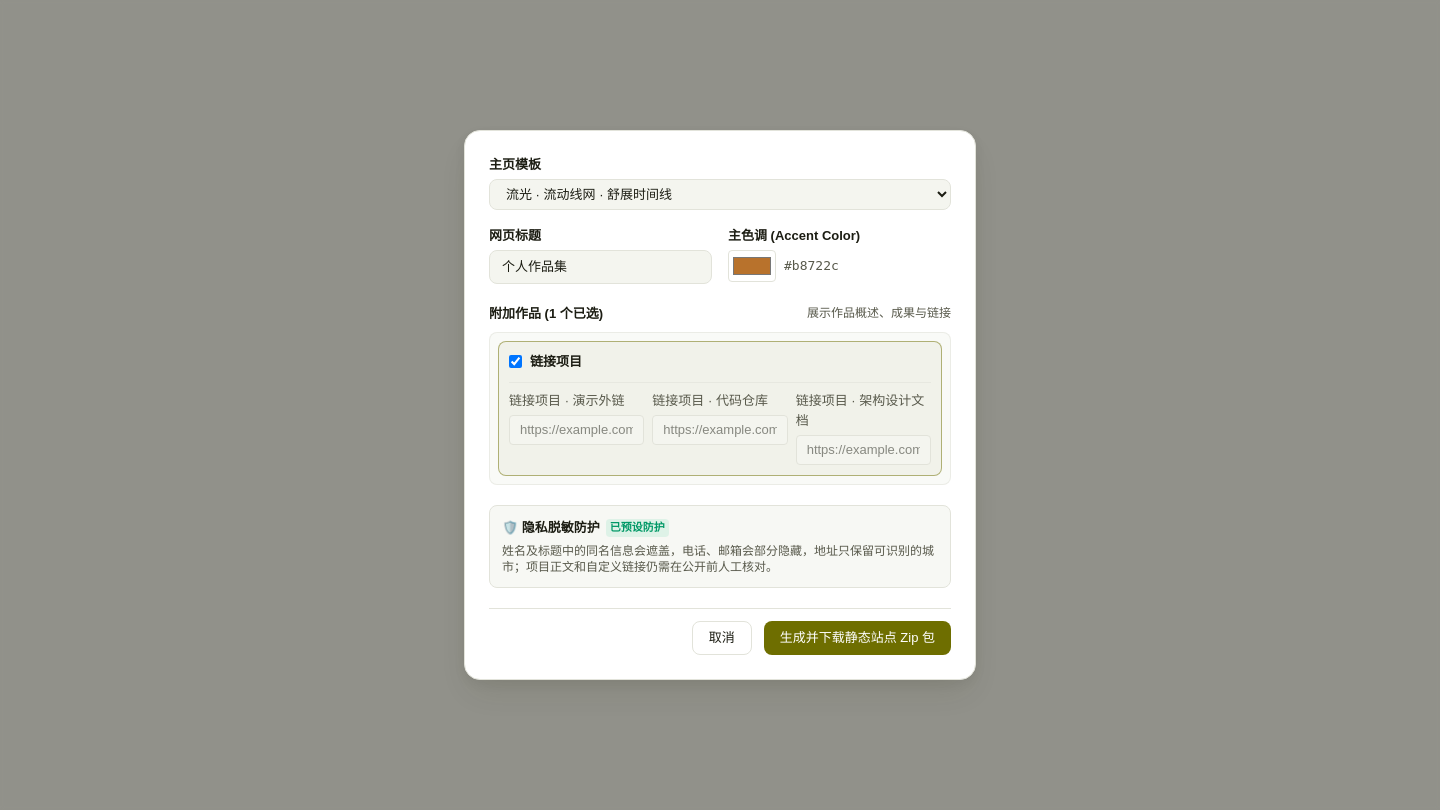
Test: PortfolioExportDialog › 项目链接具有关联标签，非法协议在保存和导出前被拒绝
Expected: the text "链接项目" is shown, [530,352,582,372]
In the field labelled "链接项目 · 演示外链": {"x": 577, "y": 430} [509,415,644,445], type "data:text/html,test"
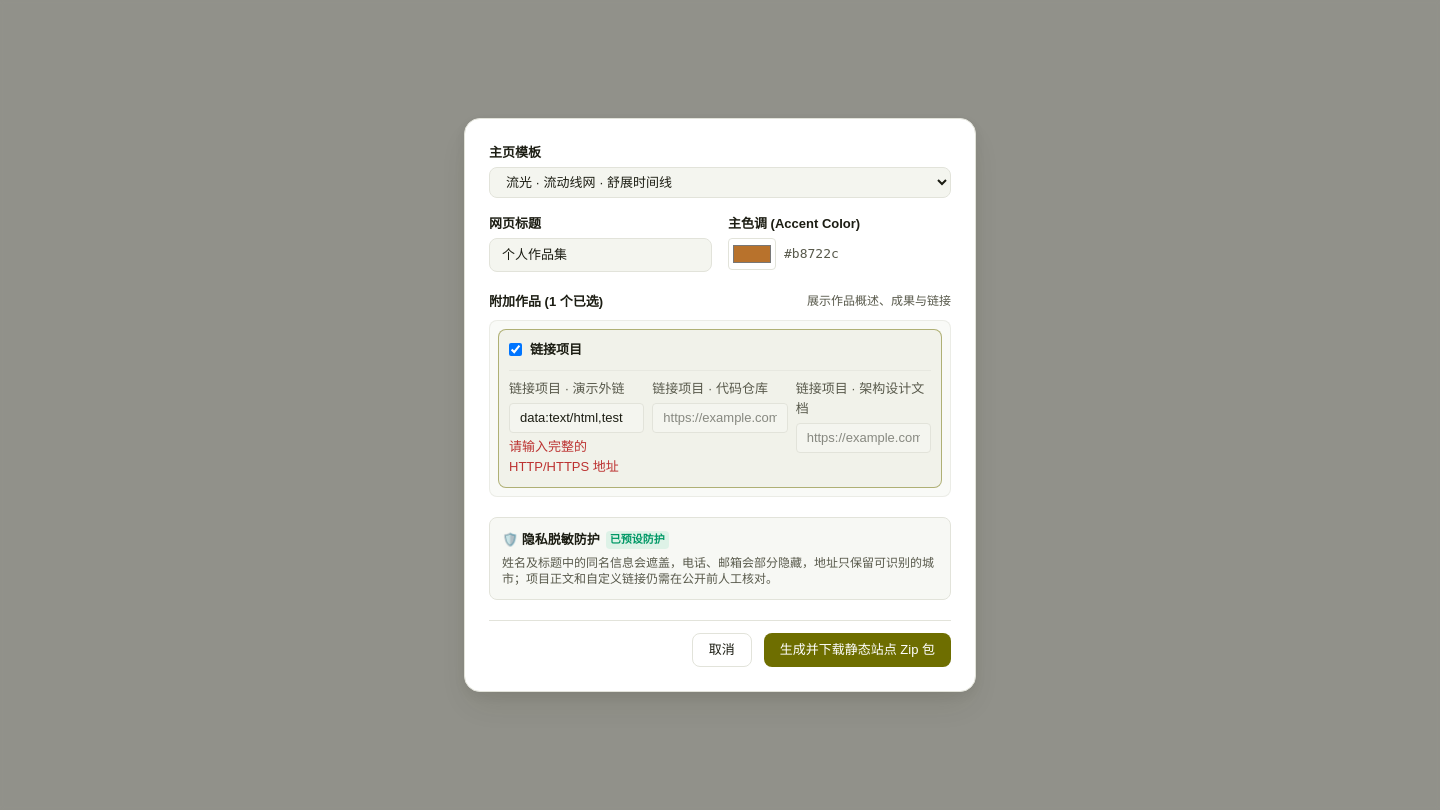
Click the button "生成并下载静态站点 Zip 包": {"x": 857, "y": 650} [764,633,951,667]
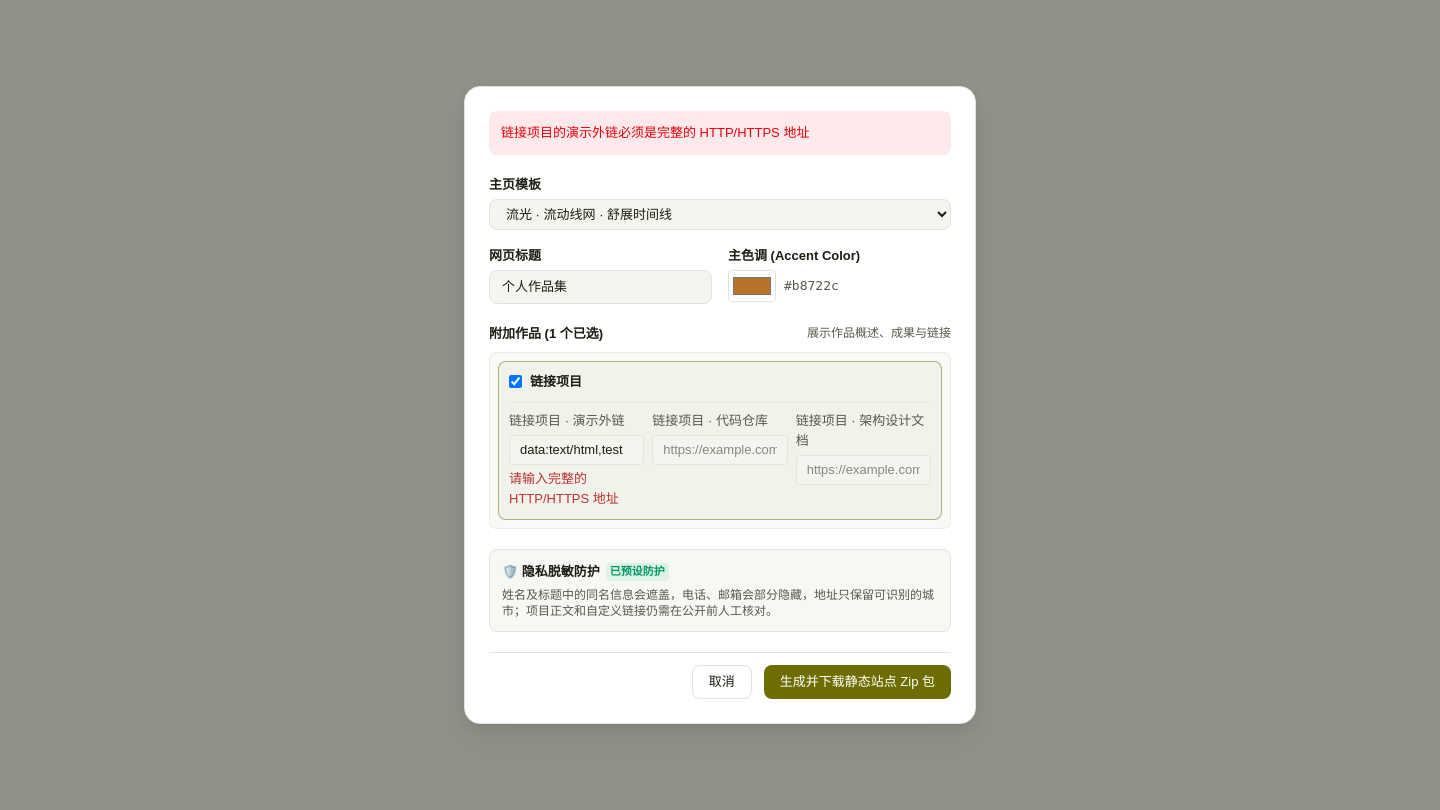
Result: the text "演示外链必须是完整的 HTTP/HTTPS" is shown at [501,125,809,140]
